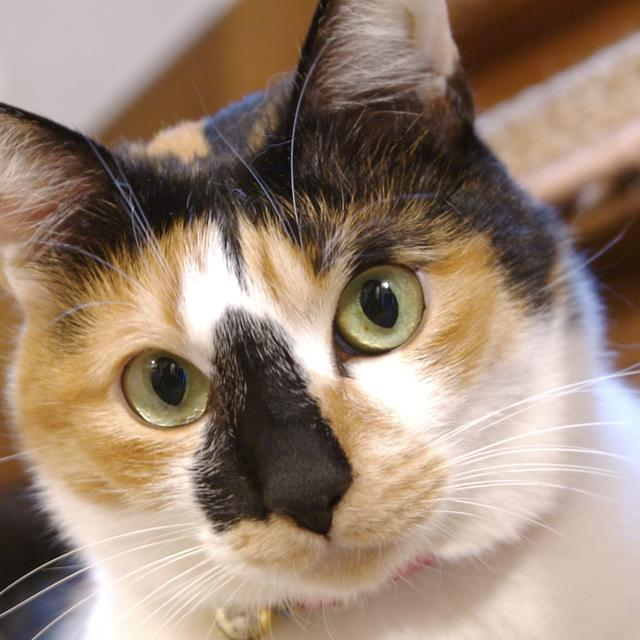animals: (0, 0, 470, 528)
